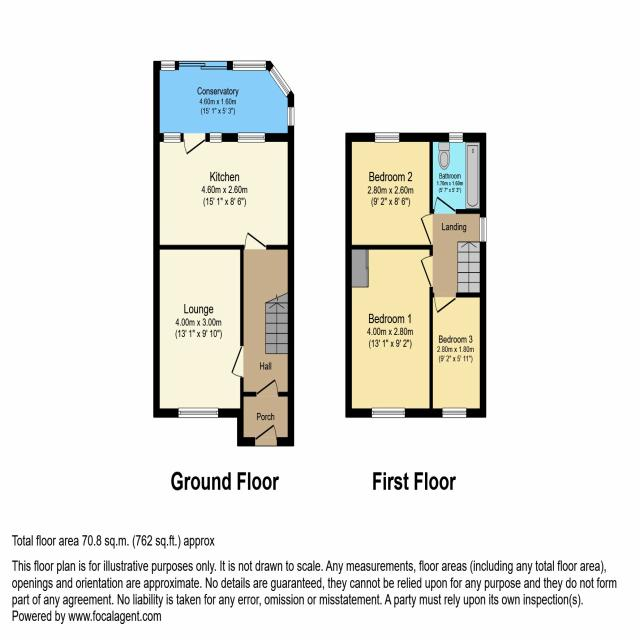DOOR: (255, 423, 278, 447), (183, 133, 206, 156), (433, 292, 457, 314), (434, 194, 457, 215), (419, 255, 433, 288), (230, 346, 244, 378), (244, 231, 267, 250), (256, 378, 279, 397), (420, 213, 433, 246)
ROOM: (153, 132, 294, 251), (153, 244, 244, 418), (345, 244, 433, 418), (153, 60, 295, 156), (345, 132, 433, 250), (429, 293, 487, 418)
SLIDING DOOR: (177, 60, 228, 70)
WINDOW: (268, 65, 292, 98), (178, 407, 219, 418), (371, 407, 406, 419), (232, 60, 266, 71), (442, 407, 467, 419), (238, 132, 265, 143), (374, 132, 400, 143), (479, 217, 487, 243), (164, 132, 181, 143), (449, 132, 464, 144), (161, 60, 175, 71), (287, 107, 295, 126), (210, 132, 222, 143)
